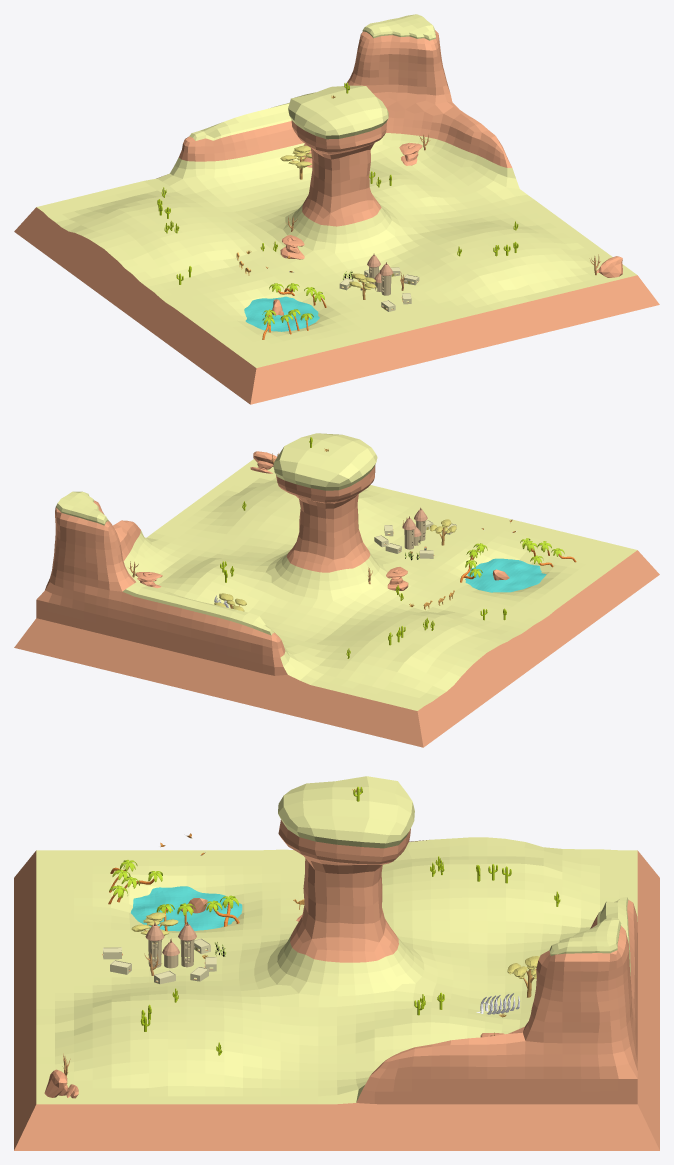
Rendered from Low Poly Desert By Edwin3D.fbx.
The picture shows the model from 3 angles, top to bottom: view 1: azimuth 30°, elevation 25°; view 2: azimuth 150°, elevation 25°; view 3: azimuth 270°, elevation 25°; orthographic projection. The views are drawn at different scales.
Parts seen in each view (by area): view 1: Cube.003, Cube, Plane, Cylinder_114; view 2: Cube.003, Cube, Plane, Cylinder_114; view 3: Cube.003, Cube, Plane, Cylinder_114, Icosphere_013.002, Icosphere_025.001.
Boxes of the visible parts, <box> form: Cube.003: <box>36,14,637,367</box>; Cube: <box>14,30,659,404</box>; Plane: <box>244,296,319,331</box>; Cylinder_114: <box>367,253,393,295</box>; Cube.003: <box>56,433,637,710</box>; Cube: <box>14,465,659,747</box>; Plane: <box>465,558,546,592</box>; Cylinder_114: <box>402,507,427,549</box>; Cube.003: <box>36,776,637,1104</box>; Cube: <box>14,820,659,1150</box>; Plane: <box>130,886,242,931</box>; Cylinder_114: <box>145,922,196,968</box>; Icosphere_013.002: <box>44,1069,78,1098</box>; Icosphere_025.001: <box>507,956,539,997</box>.
Size of the model in its own units: 9056 by 3708 by 9056.
